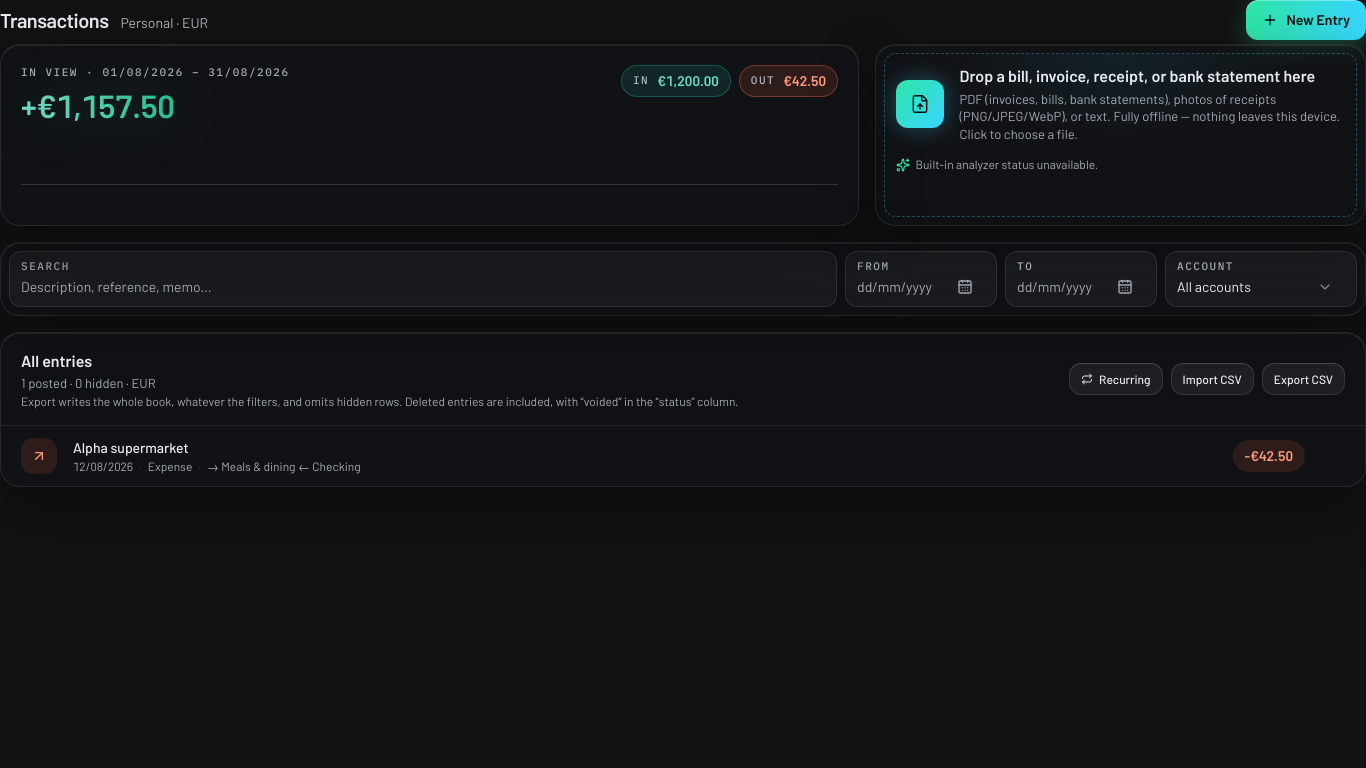
Scenario: TransactionsPage CSV toolbar › switching the type clears the error but keeps what was typed
This screenshot has width=1366, height=768.
Expected: the button "Import CSV" is shown, [1171,363,1254,395]
Click the button "New Entry" at (1306, 20), box [1246,0,1365,40]
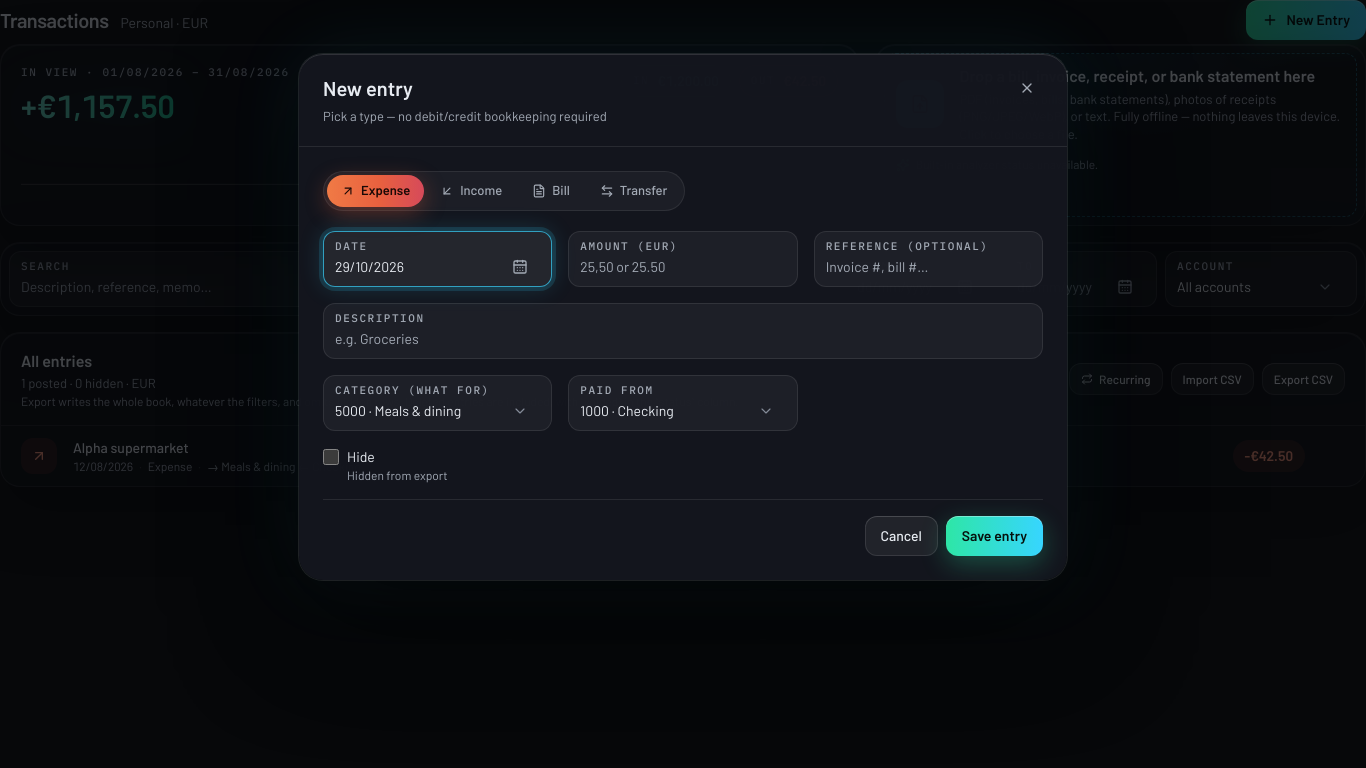
Type "Coffee" into the field labelled "Description" at (683, 339), box [335,327,1031,351]
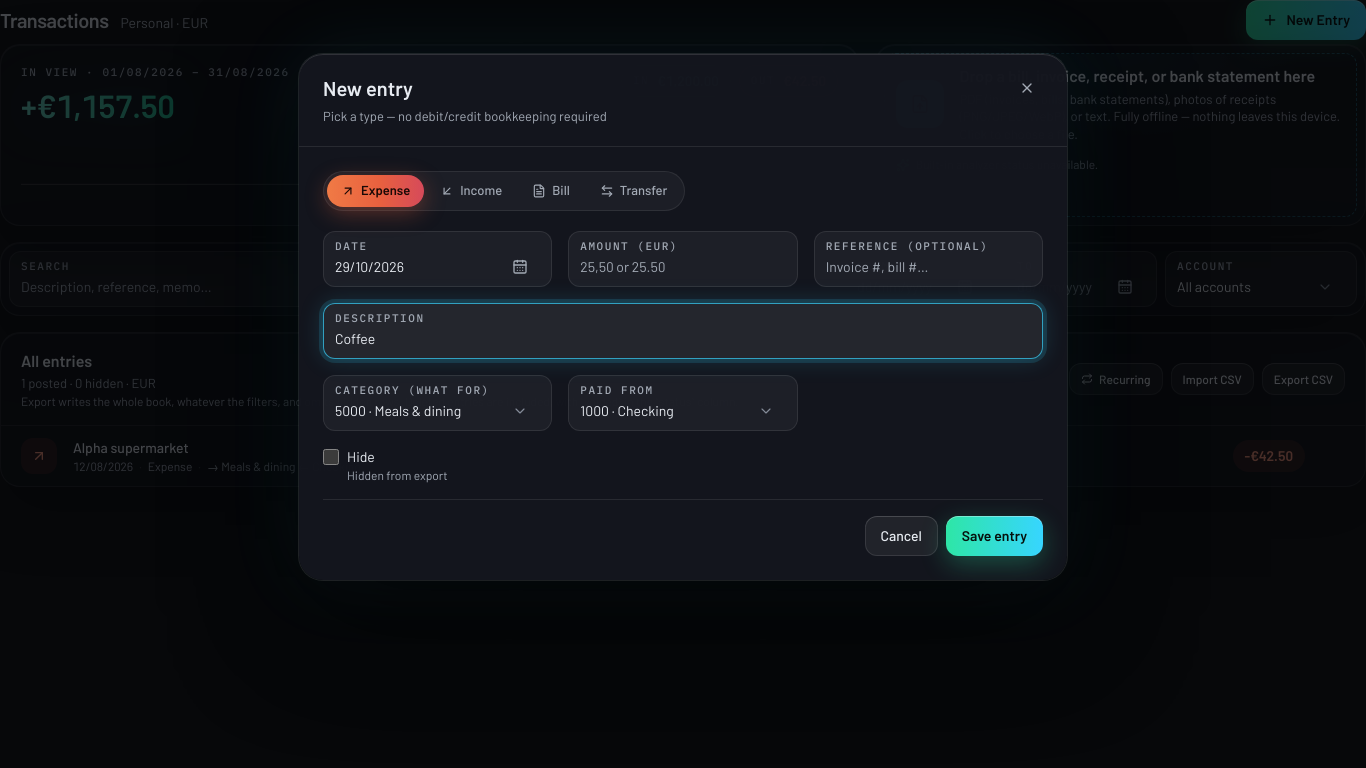
Type "0" into the field labelled "Amount (EUR)" at (683, 267), box [580,255,786,279]
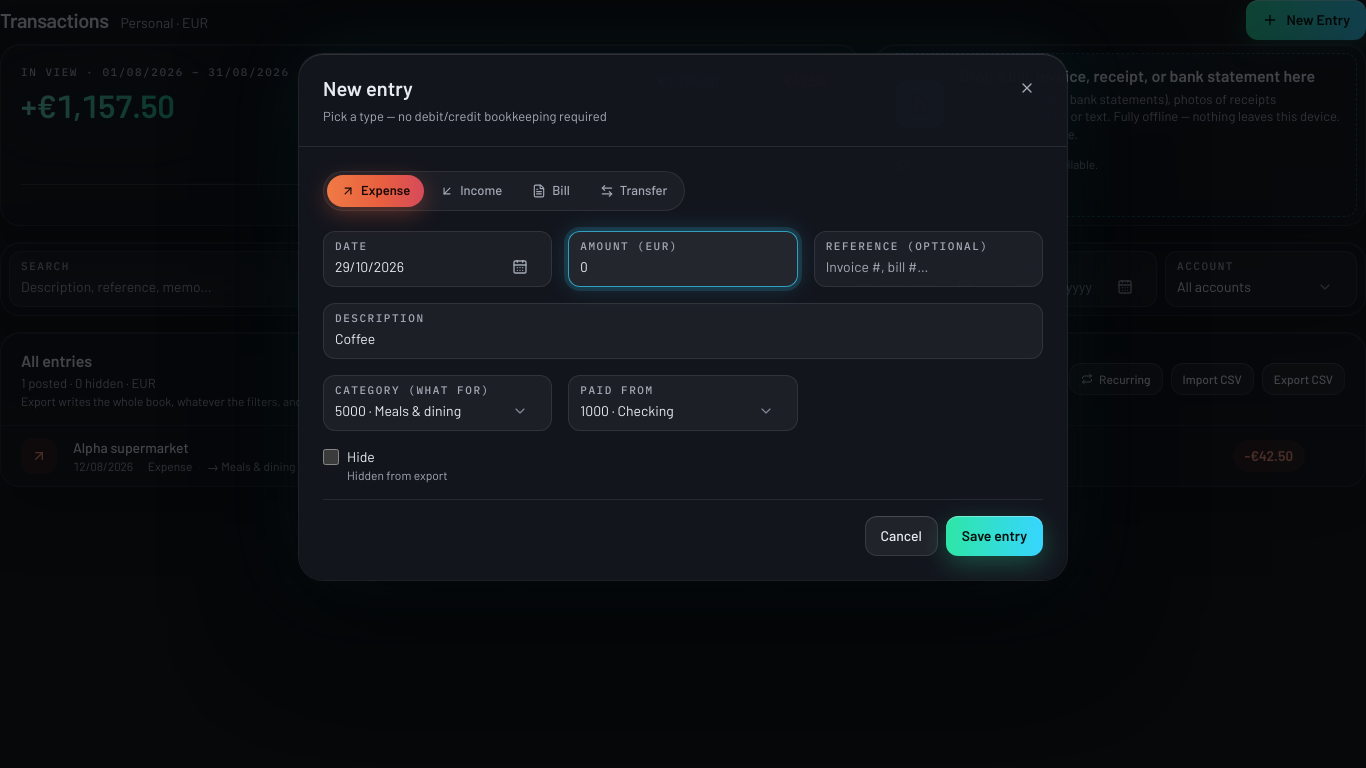
Click the button "Save entry" at (994, 536), box [946,516,1043,556]
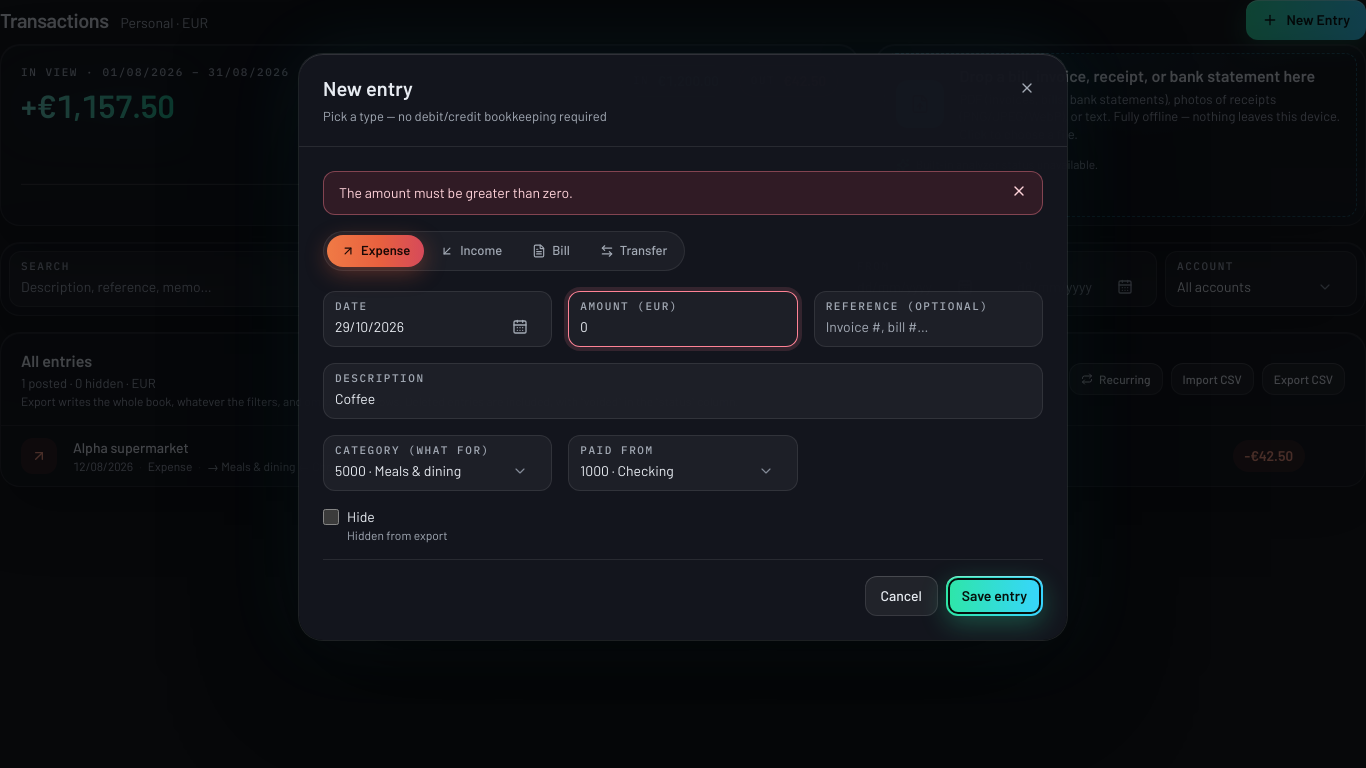
Now the field labelled "Amount (EUR)" is marked as invalid, box [580,315,786,339]
Click the button "Transfer" at (634, 251), box [586,235,682,267]
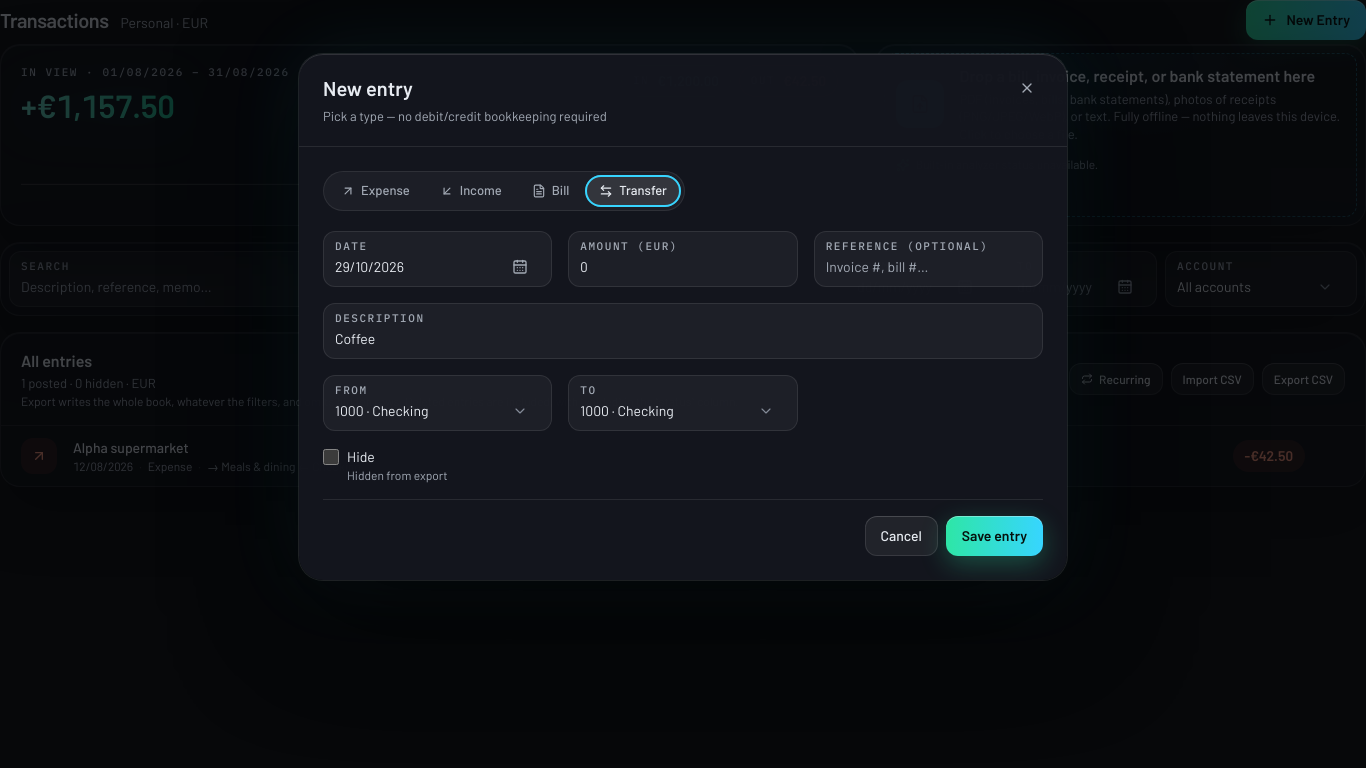
Now the text "The amount must be greater than zero." is gone
